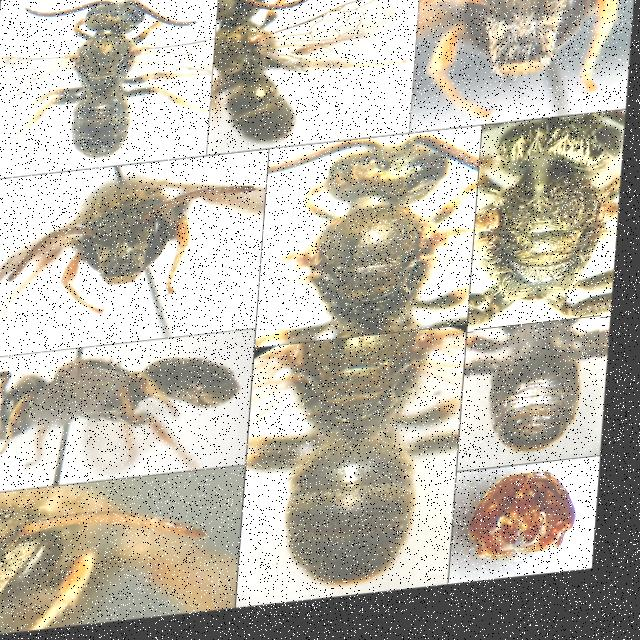Seladonia: (275, 327, 457, 606), (0, 159, 264, 330), (267, 139, 464, 347), (0, 337, 257, 487), (0, 472, 231, 634), (12, 0, 201, 166), (412, 0, 636, 134), (206, 0, 392, 156), (484, 125, 614, 338), (472, 330, 607, 468)
